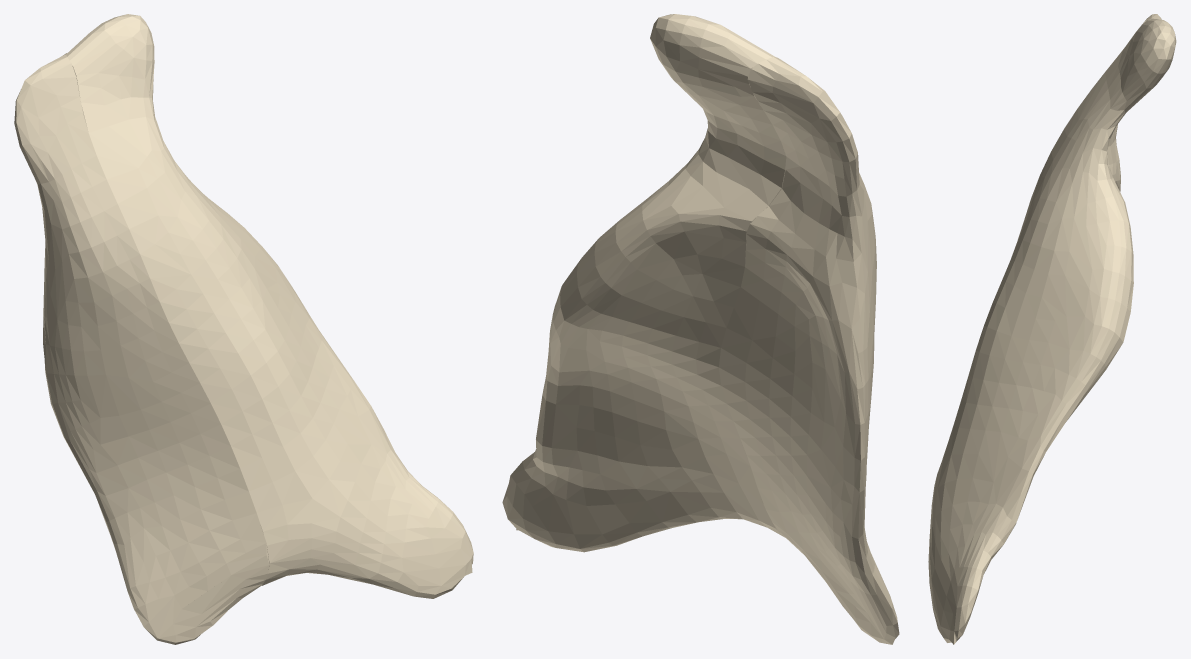
File: VH_F_Thymus_0.6.glb
3 views of the same model, side by side, from view 1: azimuth 30°, elevation 25°; view 2: azimuth 150°, elevation 25°; view 3: azimuth 270°, elevation 25° (orthographic). The views are drawn at different scales.
Visible parts, largest first — view 1: VH_F_thymus_lobe_L, VH_F_thymus_lobe_R; view 2: VH_F_thymus_lobe_L, VH_F_thymus_lobe_R; view 3: VH_F_thymus_lobe_L, VH_F_thymus_lobe_R.
Part boxes in pixels (x1,y1,x2,y2): VH_F_thymus_lobe_L: (66,14,473,598); VH_F_thymus_lobe_R: (14,53,269,644); VH_F_thymus_lobe_L: (502,14,786,552); VH_F_thymus_lobe_R: (719,57,899,644); VH_F_thymus_lobe_L: (928,18,1176,644); VH_F_thymus_lobe_R: (1107,14,1161,191).
Bounding box in the file's own units: 0.0861 × 0.1236 × 0.0539.
